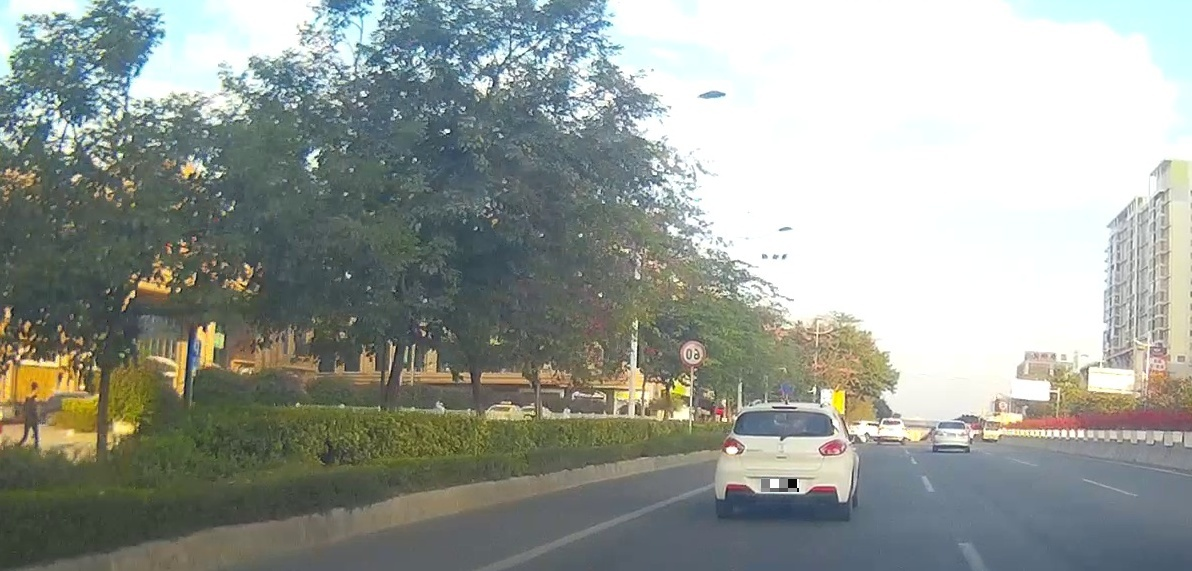L_light: (720, 436, 745, 455), (935, 431, 943, 436)
R_light: (818, 438, 847, 456), (960, 431, 968, 437)
T_light: (772, 406, 797, 409), (950, 422, 955, 423)
day-left: (715, 403, 849, 521)
day-no: (932, 420, 970, 453)
plate_1: (761, 479, 799, 492)
